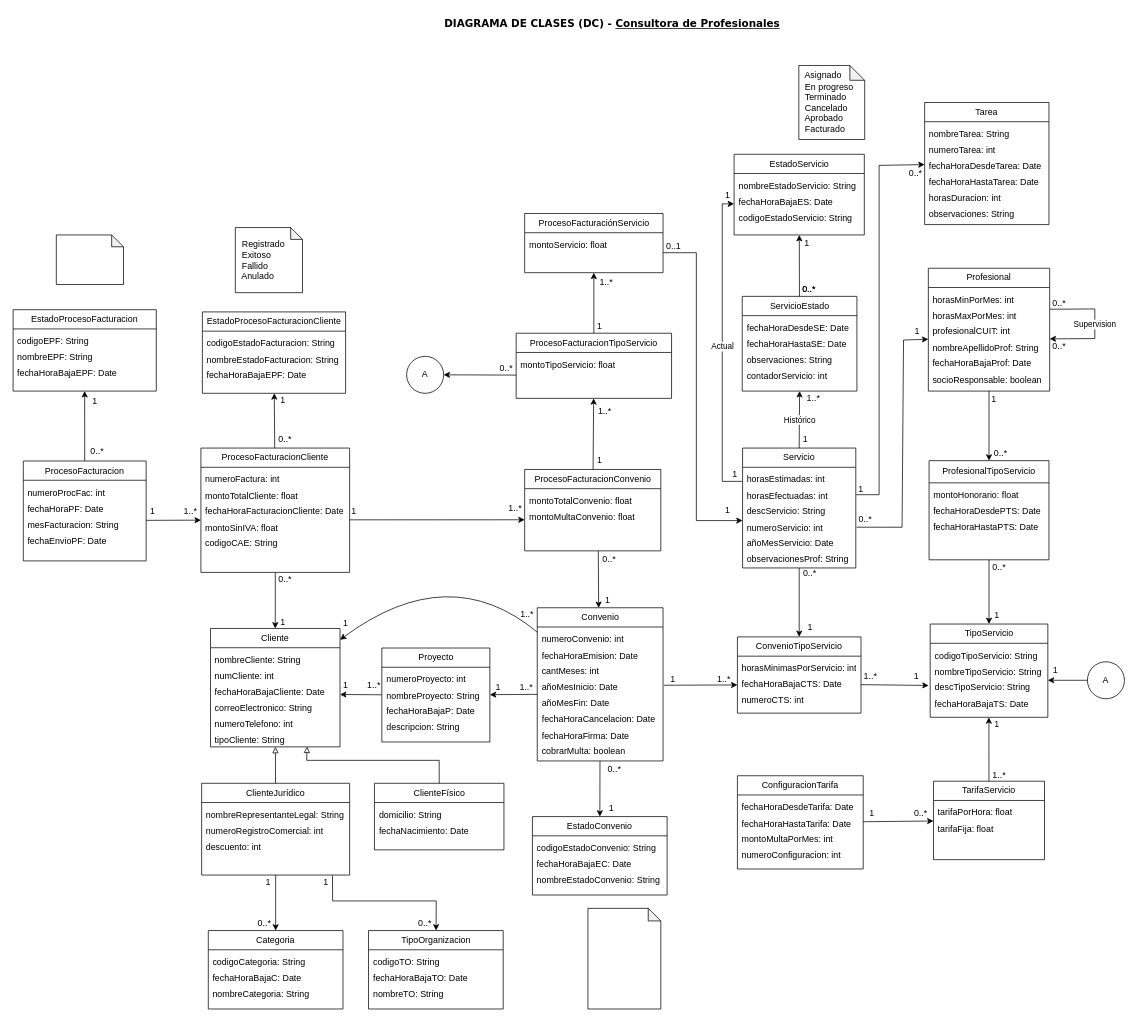
Some shapes in this 1137 by 1023 pixel diagram are drawn without their labels. The centre of each missing label's shape, as x and y in pixels:
"Registrado Aceptado Rechazado Firmado Anulado Cancelado En progreso Terminado" belongs at (x=624, y=958).
"Simulado Completo Incompleto" belongs at (x=90, y=259).
